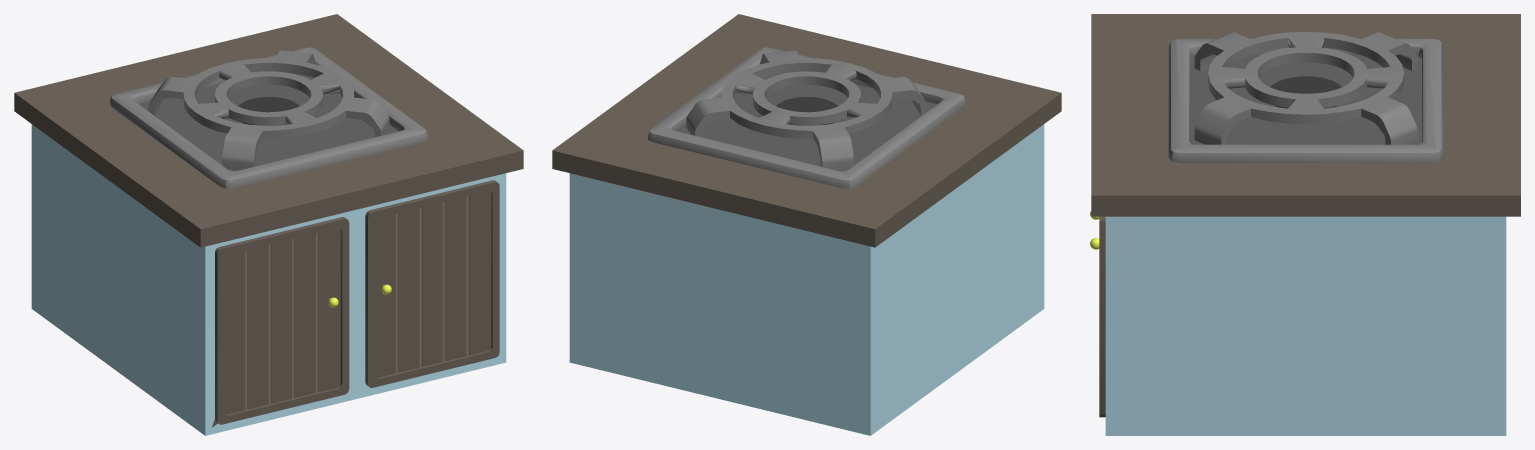
The model's file is Stove.fbx.
3 renders of one model, left to right at view 1: azimuth 30°, elevation 25°; view 2: azimuth 150°, elevation 25°; view 3: azimuth 270°, elevation 25°, orthographic. The views are drawn at different scales.
Parts seen in each view (by area): view 1: Stove; view 2: Stove; view 3: Stove.
Boxes of the visible parts, bbox=[...] form: Stove: bbox=[14, 14, 523, 435]; Stove: bbox=[552, 14, 1061, 435]; Stove: bbox=[1090, 14, 1520, 435].
Size of the model in its own units: 173 by 123 by 173.
